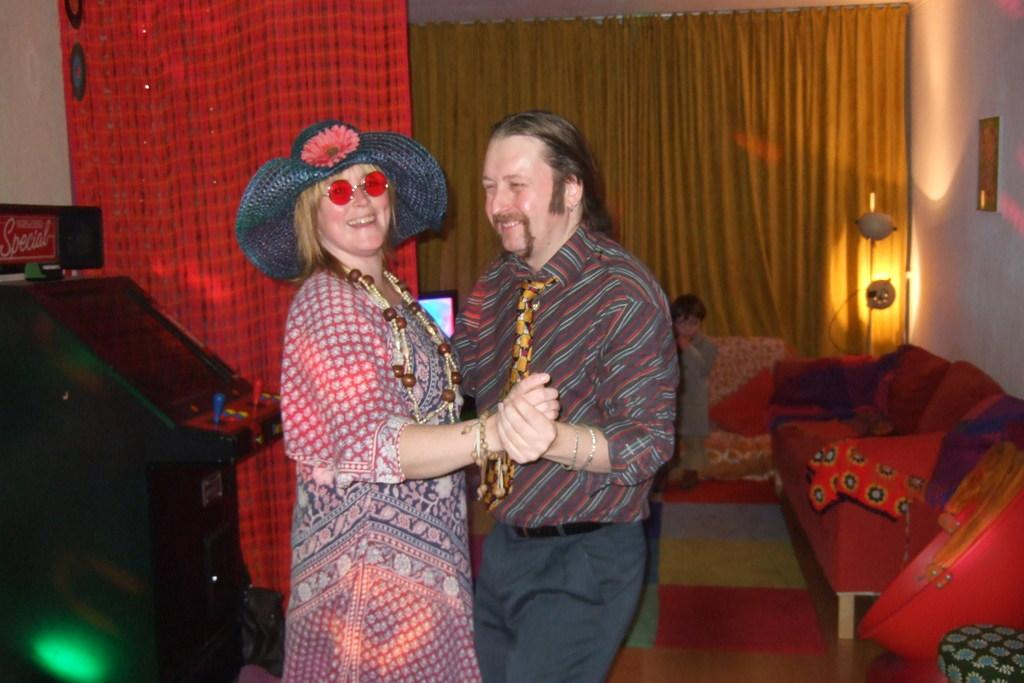Hat: (236, 118, 450, 278)
